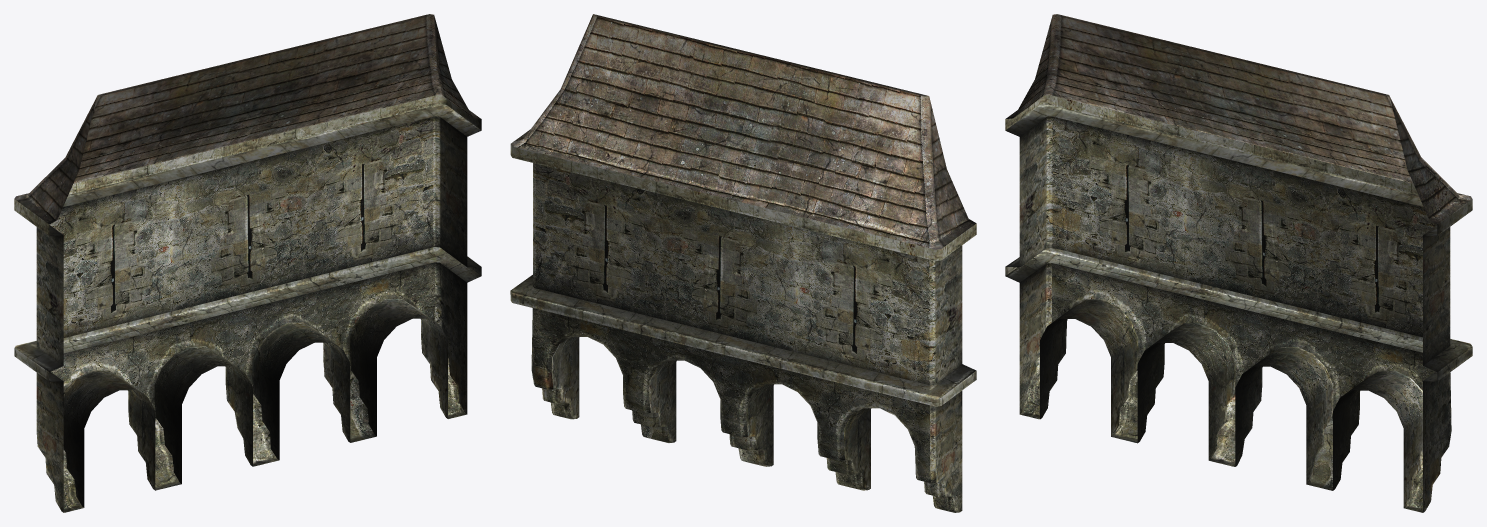
The model's file is bridge_03_bay.fbx.
The picture shows the model from 3 angles, left to right: view 1: azimuth 30°, elevation 25°; view 2: azimuth 150°, elevation 25°; view 3: azimuth 330°, elevation 25°; orthographic projection.
Visible parts, largest first — view 1: Mesh Object; view 2: Mesh Object; view 3: Mesh Object.
Part boxes in pixels (x1,y1,x2,y2): Mesh Object: (14, 14, 481, 512); Mesh Object: (510, 14, 976, 512); Mesh Object: (1005, 14, 1472, 512).
Size of the model in its own units: 7.84 by 7.06 by 1.19.
